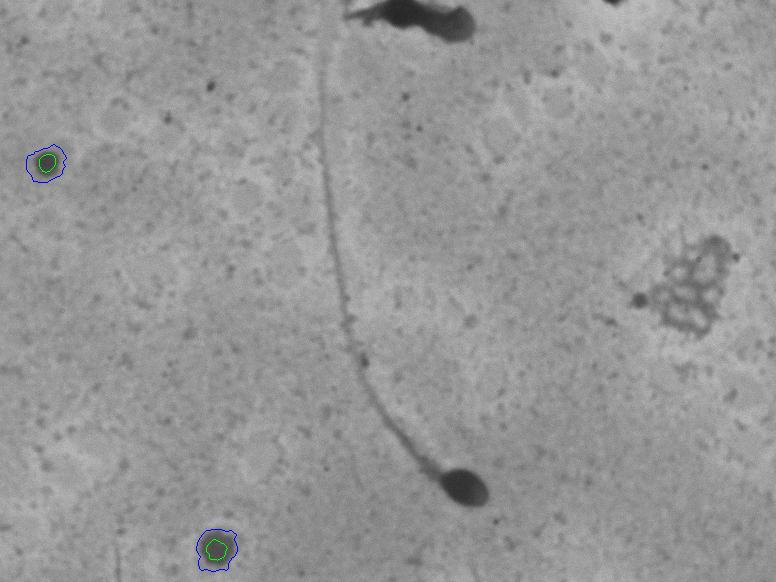Abnormal: (273, 117, 512, 529)
